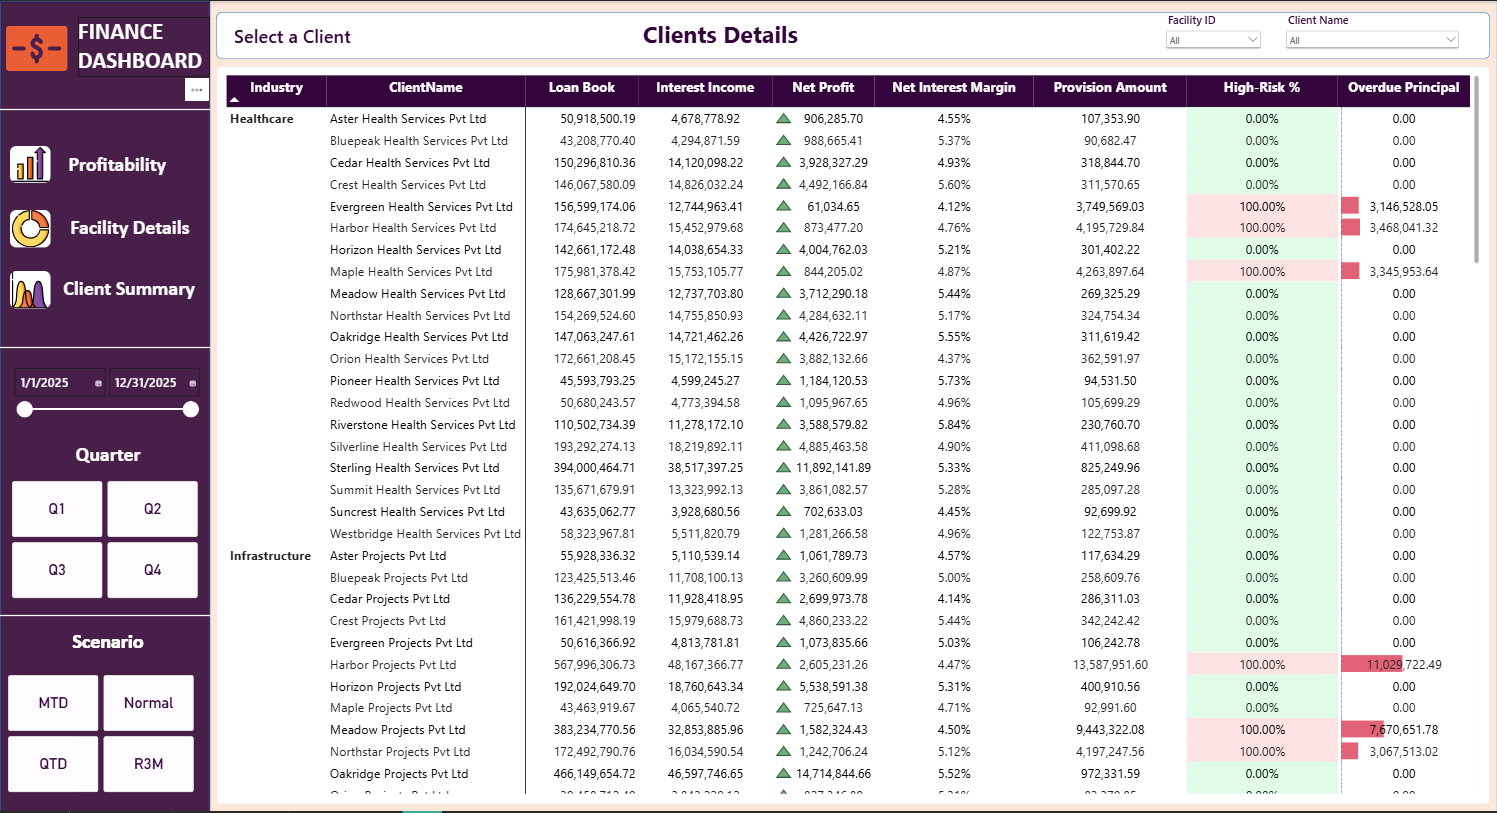

This screenshot's page, from the dashboard's own definition file:
{"tool":"powerbi","page":{"name":"Client Details","canvas":[2400,1299],"ordinal":2},"visuals":[{"type":"shape","box":[0,0,337,1300],"z":0},{"type":"shape","box":[346.4,17.6,2043.1,75.4],"z":0,"group":"g1"},{"type":"textbox","box":[446.8,26.5,1416.1,56.1],"z":1000,"group":"g1"},{"type":"textbox","box":[0,998.7,346.5,49],"z":1000},{"type":"image","box":[6.8,16.9,104.8,116.6],"z":2000},{"type":"slicer","fields":{"Values":["Fact_Banking_Monthly.FacilityID"]},"box":[1865.1,17.6,162,86.6],"z":2000,"group":"g1"},{"type":"group","id":"g1","title":"Group 1","box":[346.4,17.6,2043.1,86.6],"z":3000},{"type":"slicer","fields":{"Values":["Dim_Client.ClientName"]},"box":[2057.6,17.6,287.1,86.6],"z":3000,"group":"g1"},{"type":"shape","box":[0,161,337,27.3],"z":4000},{"type":"pivotTable","fields":{"Rows":["Dim_Client.Industry","Dim_Client.ClientName"],"Values":["Z_Measures.Loan Book 1","Z_Measures.Interest Income","Z_Measures.Net Profit","Z_Measures.Net Interest Margin","Z_Measures.Provision Amount","Z_Measures.High-Risk Exposure %","Z_Measures.Current Overdue Principal"]},"box":[346.4,104.2,2043.1,1183.5],"z":5000},{"type":"image","box":[29.8,231.9,65.2,59.4],"z":6000},{"type":"image","box":[30.9,335.5,65,60],"z":7000},{"type":"image","box":[30.9,433.4,65,60],"z":8000},{"type":"textbox","box":[118.6,232.3,161,59.4],"z":9000},{"type":"textbox","box":[107.1,333.9,224.3,59.4],"z":10000},{"type":"textbox","box":[106.3,431.8,224.7,59.4],"z":11000},{"type":"shape","box":[0,542.5,337,27.3],"z":12000},{"type":"advancedSlicerVisual","fields":{"Values":["Dim_date.Quarter"]},"box":[19.2,770.4,299,189.8],"z":13000},{"type":"textbox","box":[0,998.7,346.5,49],"z":14000},{"type":"shape","box":[0,971.8,337,27.3],"z":15000},{"type":"textbox","box":[0,699.4,346.5,49],"z":16000},{"type":"advancedSlicerVisual","fields":{"Values":["Calculation Group.Time Period"]},"box":[13.4,1081.2,299,189.8],"z":17000},{"type":"textbox","box":[124.9,25,211.5,96.6],"z":18000},{"type":"slicer","fields":{"Values":["Dim_date.Date"]},"box":[16,583.7,305.9,89.6],"z":19000},{"type":"cardVisual","fields":{"Data":["Z_Measures.Selected Client"]},"box":[359.2,17.6,519.6,75.4],"z":20000},{"type":"shape","box":[0,433,30.5,62.5],"z":21000}]}

Visuals, with their boxes on the page's 2400x1299 design canvas (x1, y1, x2, y2). These are canvas units, not pixel positions in the 1497x813 screenshot, which may show the page scaled, cropped or inside an application window:
shape: [left=0, top=0, right=337, bottom=1300]
shape: [left=346, top=18, right=2390, bottom=93]
textbox: [left=447, top=26, right=1863, bottom=83]
textbox: [left=0, top=999, right=346, bottom=1048]
image: [left=7, top=17, right=112, bottom=134]
slicer - Fact_Banking_Monthly.FacilityID: [left=1865, top=18, right=2027, bottom=104]
"Group 1" group: [left=346, top=18, right=2390, bottom=104]
slicer - Dim_Client.ClientName: [left=2058, top=18, right=2345, bottom=104]
shape: [left=0, top=161, right=337, bottom=188]
pivotTable - Dim_Client.Industry x Dim_Client.ClientName: [left=346, top=104, right=2390, bottom=1288]
image: [left=30, top=232, right=95, bottom=291]
image: [left=31, top=336, right=96, bottom=396]
image: [left=31, top=433, right=96, bottom=493]
textbox: [left=119, top=232, right=280, bottom=292]
textbox: [left=107, top=334, right=331, bottom=393]
textbox: [left=106, top=432, right=331, bottom=491]
shape: [left=0, top=542, right=337, bottom=570]
advancedSlicerVisual - Dim_date.Quarter: [left=19, top=770, right=318, bottom=960]
textbox: [left=0, top=999, right=346, bottom=1048]
shape: [left=0, top=972, right=337, bottom=999]
textbox: [left=0, top=699, right=346, bottom=748]
advancedSlicerVisual - Calculation Group.Time Period: [left=13, top=1081, right=312, bottom=1271]
textbox: [left=125, top=25, right=336, bottom=122]
slicer - Dim_date.Date: [left=16, top=584, right=322, bottom=673]
cardVisual - Z_Measures.Selected Client: [left=359, top=18, right=879, bottom=93]
shape: [left=0, top=433, right=30, bottom=496]
